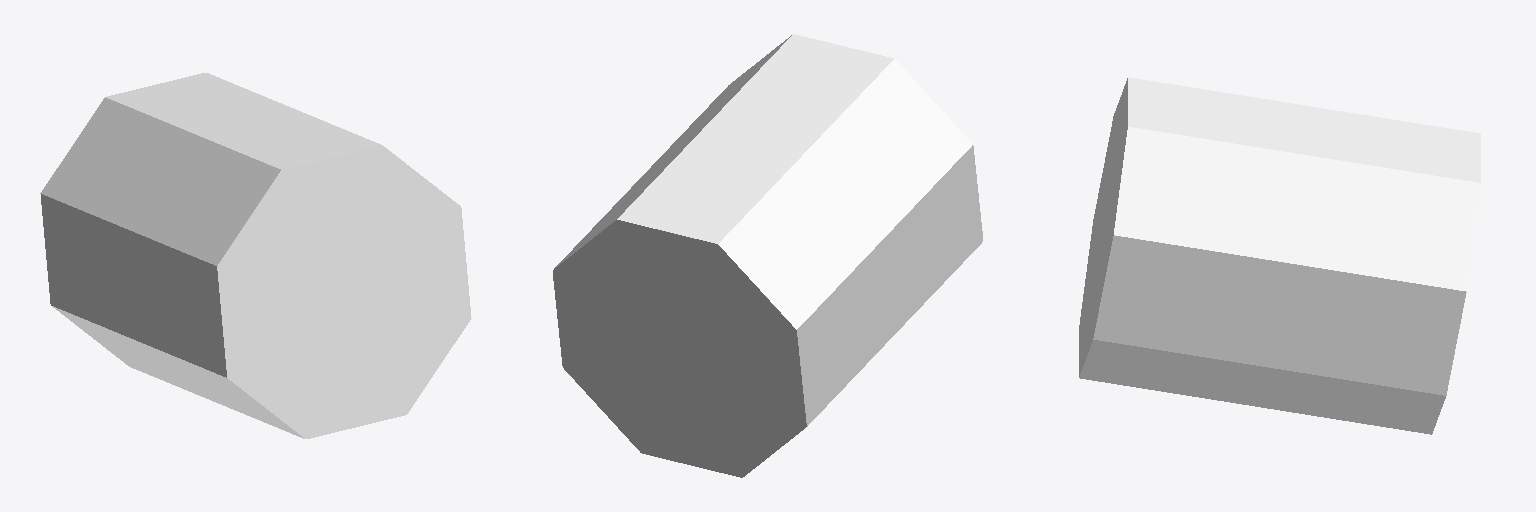
Rendered from mt_horse_tm.obj.
3 renders of one model, left to right at view 1: azimuth 30°, elevation 25°; view 2: azimuth 150°, elevation 25°; view 3: azimuth 270°, elevation 25°, orthographic.
Visible parts, largest first — view 1: octagon.002, octagon, octagon.000, octagon.001; view 2: octagon, octagon.002, octagon.000, octagon.001; view 3: octagon.002, octagon.001, octagon.000, octagon.
Part boxes in pixels (bbox=[...]): octagon.002: bbox=[41, 194, 470, 377]; octagon: bbox=[40, 97, 471, 413]; octagon.000: bbox=[106, 73, 406, 438]; octagon.001: bbox=[52, 145, 460, 438]; octagon: bbox=[563, 59, 972, 452]; octagon.002: bbox=[553, 145, 982, 426]; octagon.000: bbox=[617, 34, 893, 477]; octagon.001: bbox=[553, 35, 805, 477]; octagon.002: bbox=[1093, 116, 1466, 395]; octagon.001: bbox=[1079, 127, 1480, 325]; octagon.000: bbox=[1079, 77, 1480, 373]; octagon: bbox=[1079, 78, 1445, 434].
Bounding box in the file's own units: 0.847 × 1.02 × 1.21.